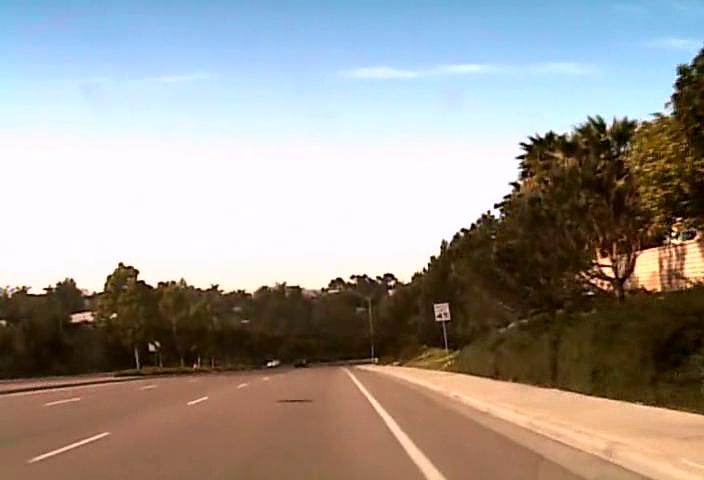speedLimit45: (433, 302, 451, 321)
